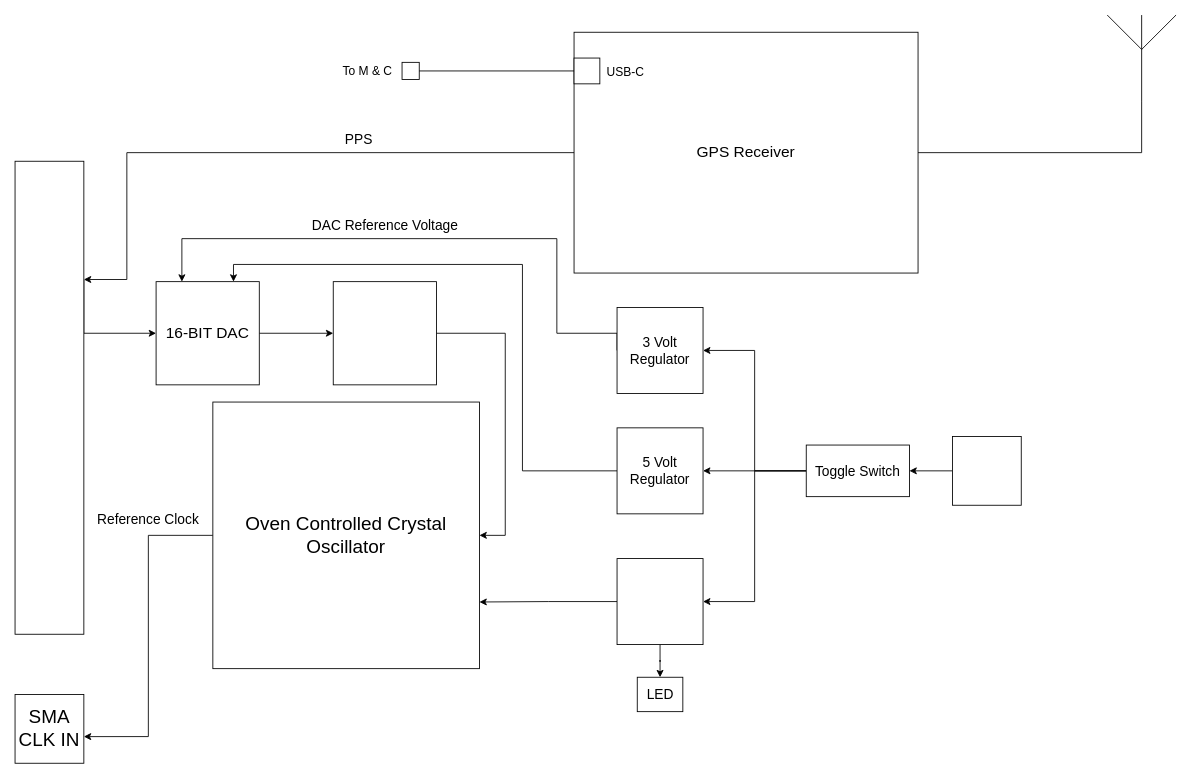
This 1191x778 diagram has some shape labels left out. Each missing label, with the centre of its shape:
"3.3 Volt Regulator" belongs at [659,601].
"DC Barrel Connector" belongs at [986,470].
"FGPA GPIO PINS" belongs at [49,397].
"OP AMP Voltage Follower" belongs at [384,333].
